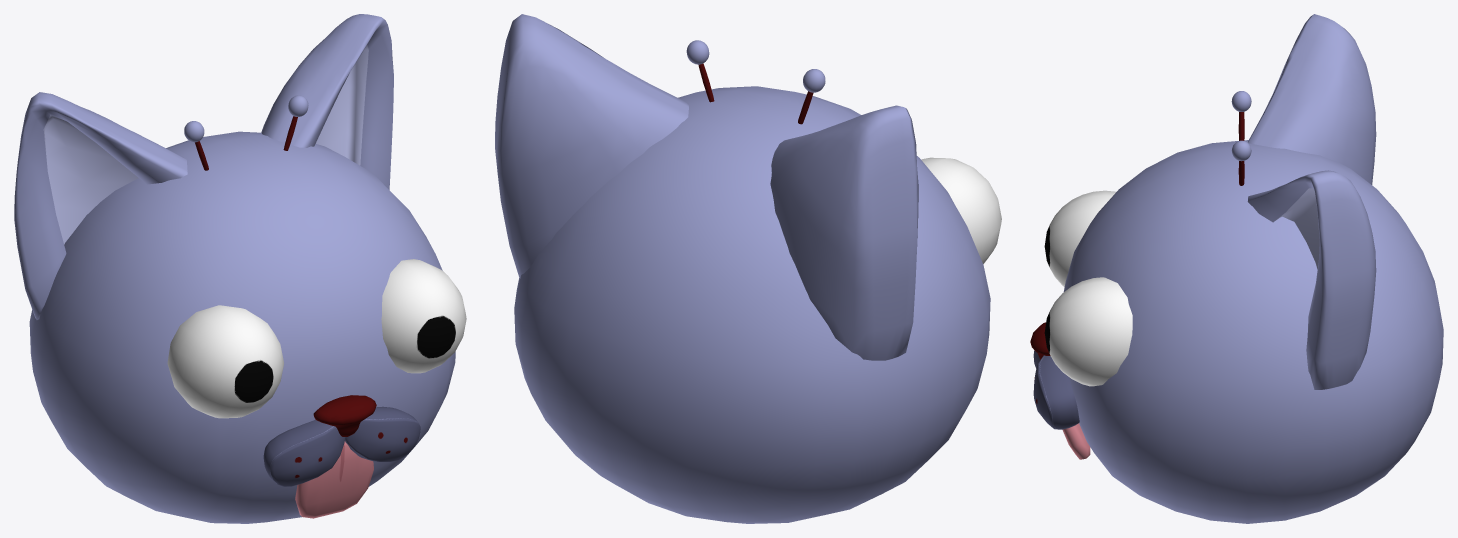
File: Gatus.fbx
The picture shows the model from 3 angles, left to right: view 1: azimuth 30°, elevation 25°; view 2: azimuth 150°, elevation 25°; view 3: azimuth 270°, elevation 25°; orthographic projection. The views are drawn at different scales.
Parts seen in each view (by area): view 1: gato; view 2: gato; view 3: gato.
Part boxes in pixels (x1,y1,x2,y2): gato: (14, 14, 466, 523); gato: (495, 14, 1001, 523); gato: (1030, 14, 1443, 523).
Bounding box in the file's own units: 14.11 × 14.85 × 13.77.
Materials: 1 (1 with a texture image).
